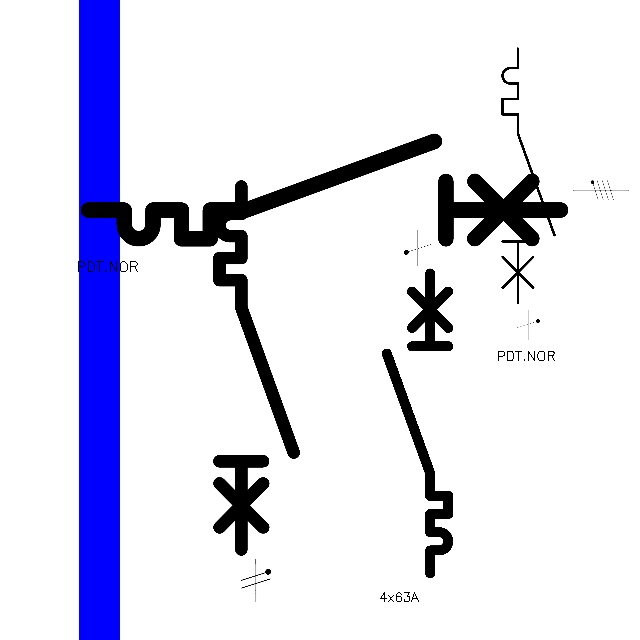interruptor_termomagnetico: (76, 129, 573, 251), (210, 177, 303, 559), (379, 265, 456, 580), (496, 42, 561, 309)
